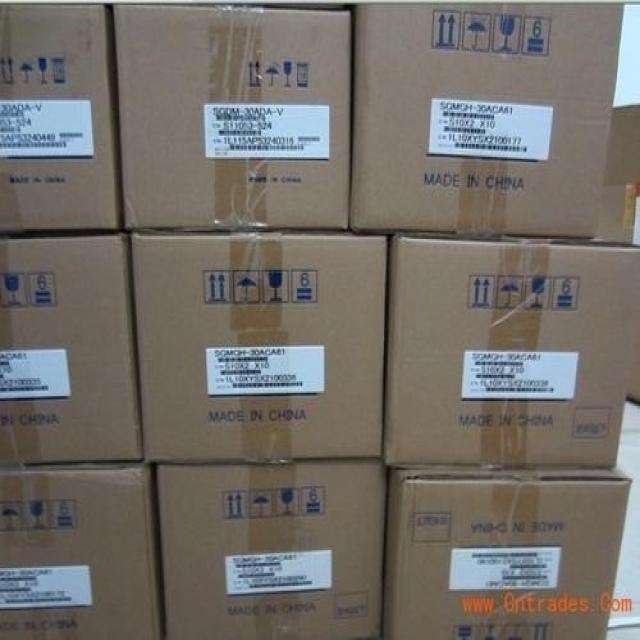box: (351, 2, 624, 238), (129, 233, 389, 464), (384, 237, 639, 468), (108, 5, 354, 233), (380, 467, 632, 638), (154, 456, 381, 638), (0, 232, 143, 466), (0, 461, 162, 638), (0, 5, 121, 237), (595, 103, 639, 247), (627, 254, 639, 408)
